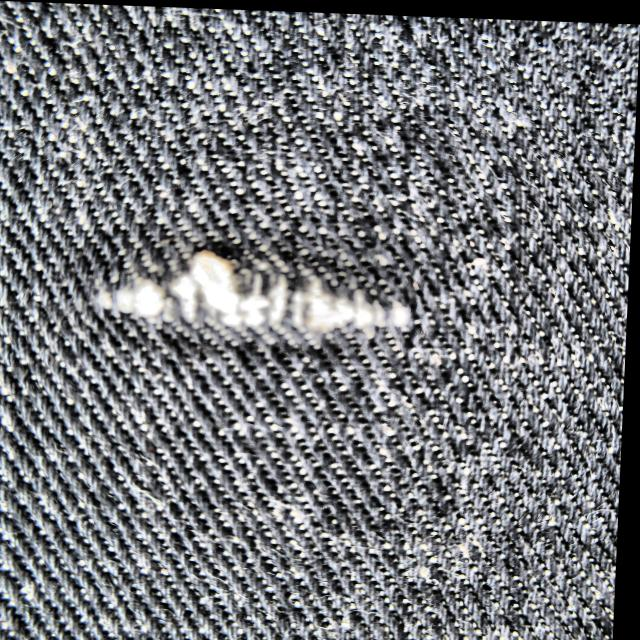Hole: (98, 247, 414, 330)
